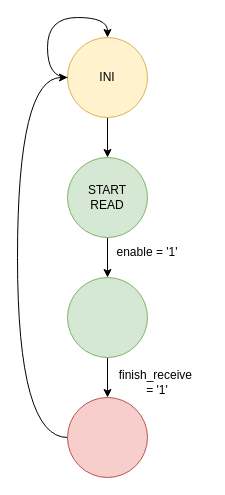
Image size: 225x495. Some labels were removed from this diagram. The shapes that lost their labels are listed below. From the top down, each one's centre as x and y in pixels, then its label:
At [107,317]: "READING".
At [107,437]: "READ FINISH".
